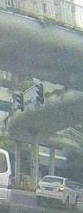L_light: (36, 185, 41, 190)
R_light: (57, 186, 65, 192)
T_light: (51, 177, 56, 179)
day-right: (35, 175, 65, 210)
